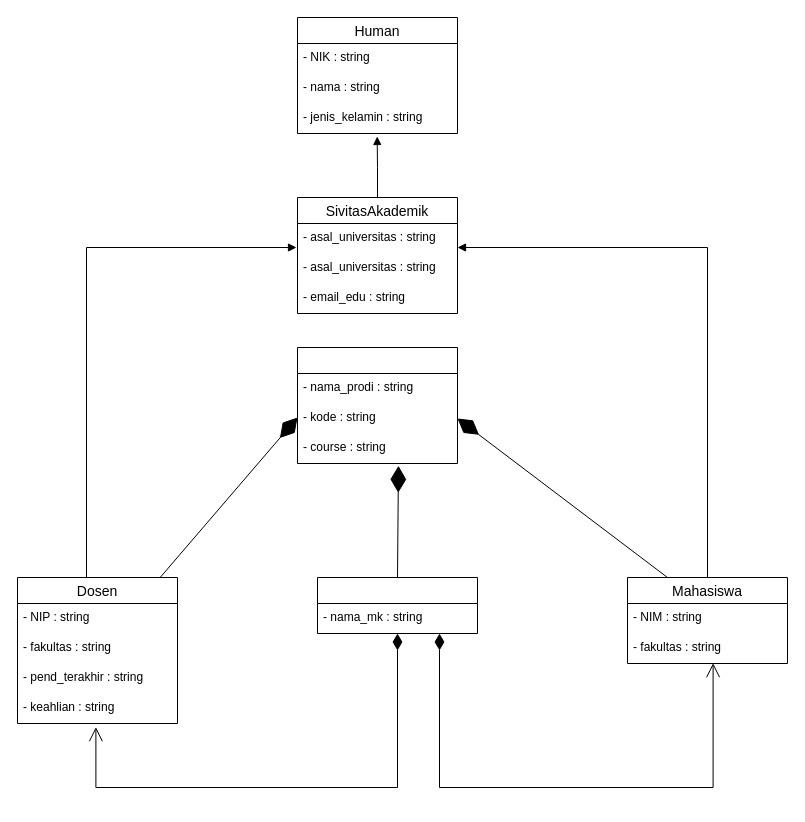
The diagram is 805 pixels wide and 822 high, and some of its shapes have lost their labels. The shapes that lost their labels are listed below. From the top down, each one's box as (x1, y1, x2, y2) in pixels, then its label:
(296, 346, 458, 464): ProgramStudi
(316, 576, 478, 634): Course
